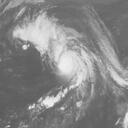cyclone: (56, 49, 89, 83)
